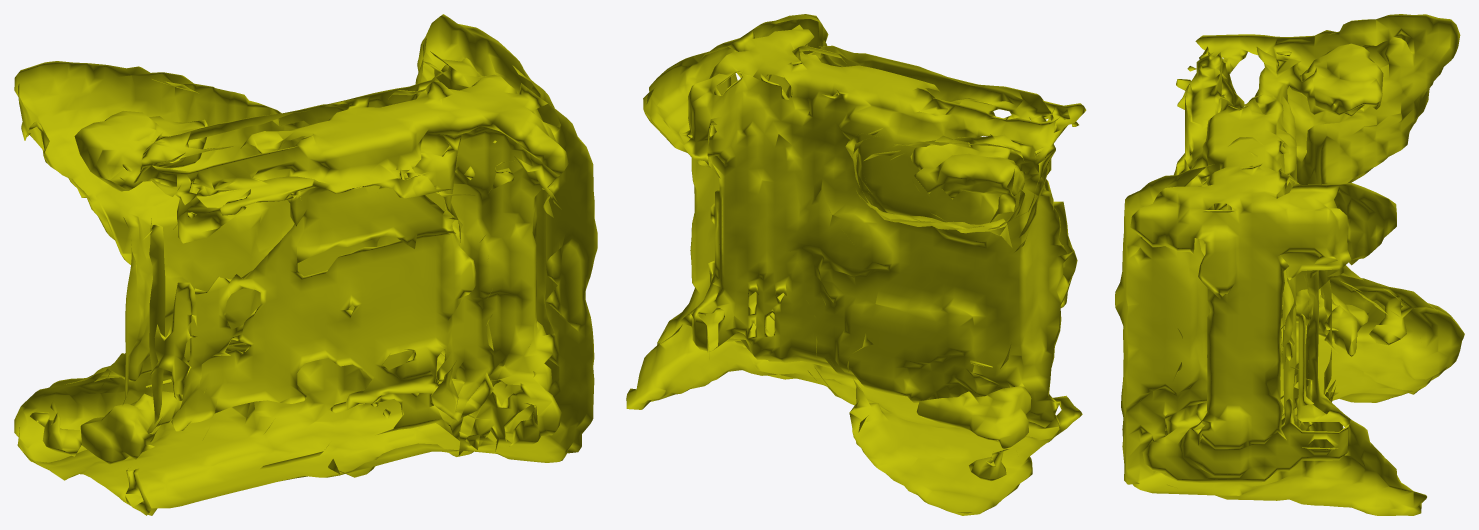
3 renders of one model, left to right at view 1: azimuth 30°, elevation 25°; view 2: azimuth 150°, elevation 25°; view 3: azimuth 270°, elevation 25°, orthographic. The views are drawn at different scales.
Parts seen in each view (by area): view 1: world; view 2: world; view 3: world.
Boxes of the visible parts, box(x1,y1,x2,y2) form: world: box(14, 14, 597, 515); world: box(626, 14, 1086, 515); world: box(1115, 14, 1464, 515).
Bounding box in the file's own units: 36.69 × 30.21 × 28.14.
